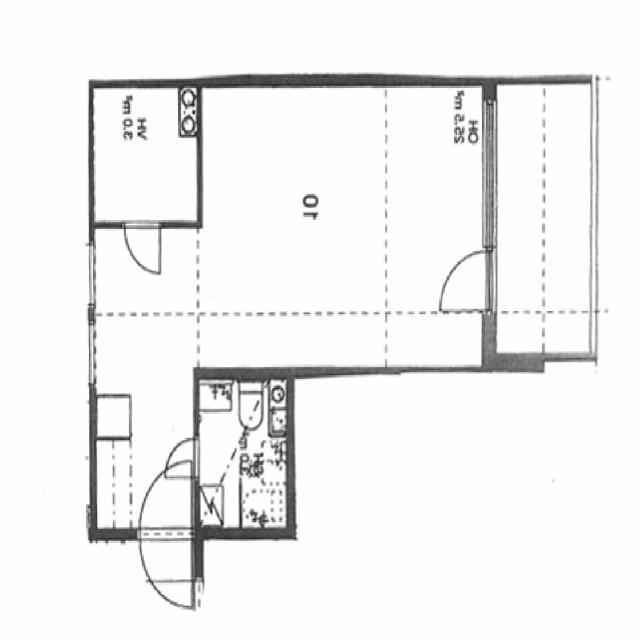door: (139, 528, 190, 606), (139, 461, 190, 539), (436, 251, 496, 312), (41, 245, 96, 306), (41, 323, 96, 383), (125, 221, 160, 274), (164, 440, 200, 478)
